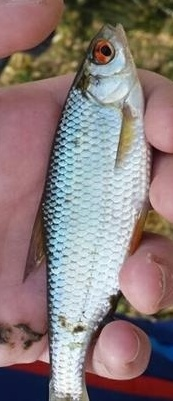Rutilus rutilus: (20, 20, 153, 401)
